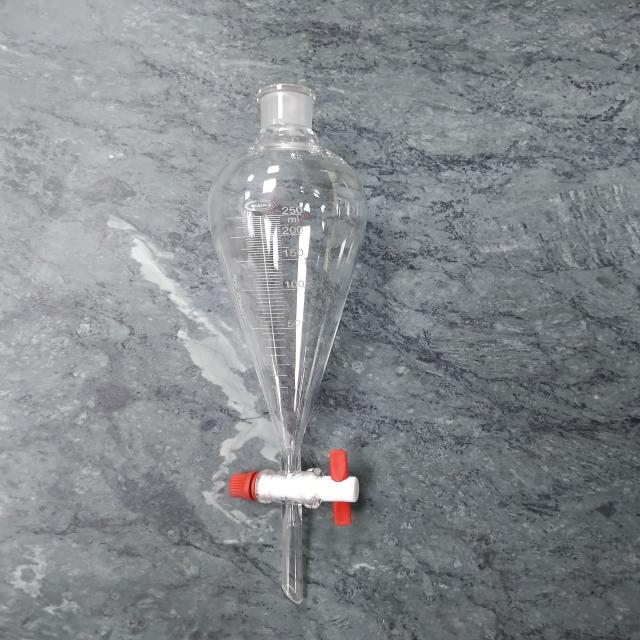Separating_Funnel: (161, 61, 420, 624)
